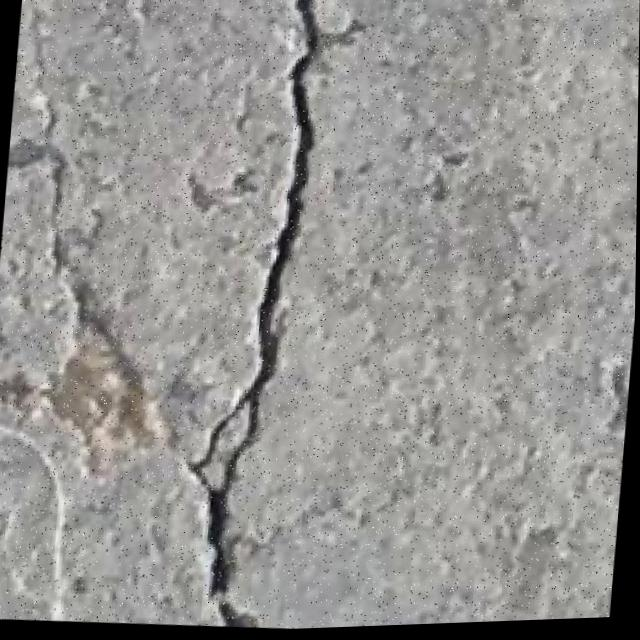Crack: (164, 0, 358, 635)
